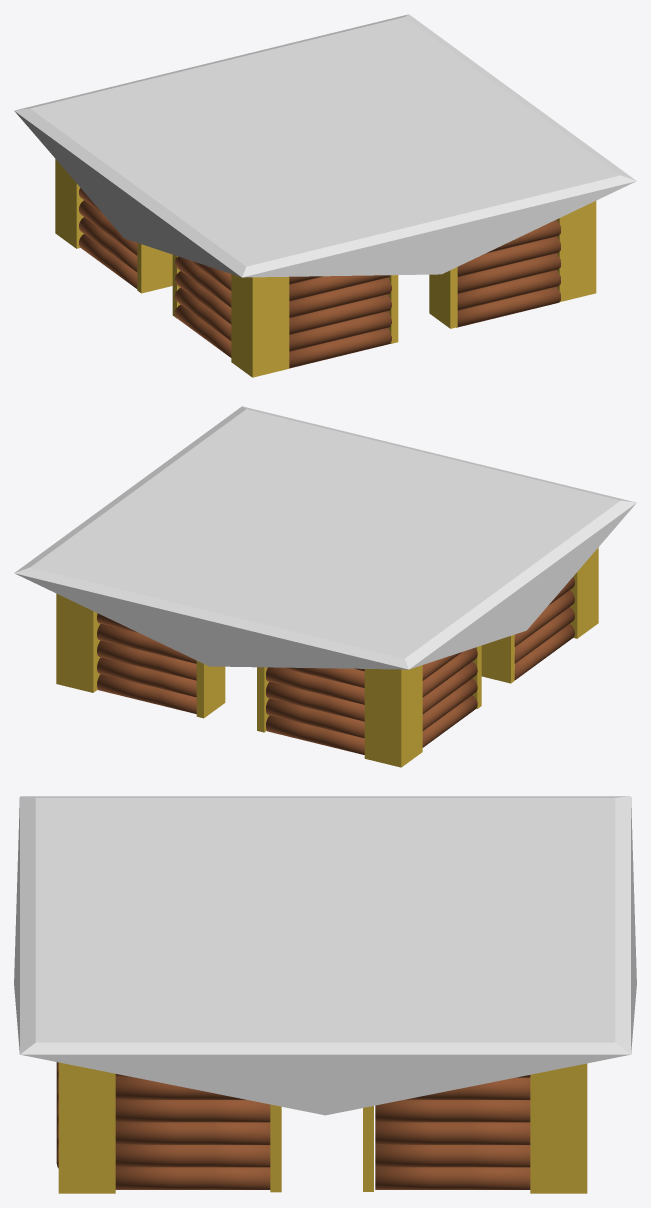
File: fallback.glb
The picture shows the model from 3 angles, top to bottom: view 1: azimuth 30°, elevation 25°; view 2: azimuth 150°, elevation 25°; view 3: azimuth 270°, elevation 25°; orthographic projection. The views are drawn at different scales.
Visible parts, largest first — view 1: Plane, Cylinder.001, Cylinder.002, Cube.001, Cube.002, Cube.007, Cube.003, Cube.008; view 2: Plane, Cylinder.001, Cylinder.002, Cube.003, Cube.005, Cube.006, Cube.001, Cube.008; view 3: Plane, Cylinder.002, Cube.002, Cube.005, Cube.009.
Part boxes in pixels (x1,y1,x2,y2): Plane: (14, 14, 636, 277); Cylinder.001: (289, 218, 560, 368); Cylinder.002: (79, 188, 231, 357); Cube.001: (231, 274, 289, 377); Cube.002: (557, 201, 596, 302); Cube.007: (388, 267, 457, 343); Cube.003: (55, 159, 83, 248); Cube.008: (137, 243, 180, 318); Plane: (14, 406, 636, 669); Cylinder.001: (97, 613, 364, 754); Cylinder.002: (422, 577, 574, 747); Cube.003: (364, 665, 422, 767); Cube.005: (56, 593, 100, 692); Cube.006: (196, 661, 269, 732); Cube.001: (570, 547, 598, 638); Cube.008: (472, 634, 514, 708); Plane: (14, 796, 636, 1115); Cylinder.002: (115, 1074, 530, 1189); Cube.002: (58, 1062, 115, 1193); Cube.005: (530, 1063, 587, 1193); Cube.009: (270, 1104, 373, 1192).
Bounding box in the file's own units: 2.97 × 0.8712 × 2.97.
